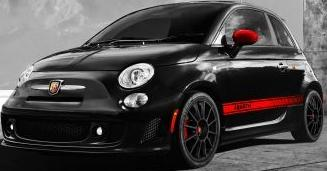front_view: (0, 62, 169, 158)
headlight: (116, 59, 173, 97)
side_glass: (218, 3, 275, 46)
